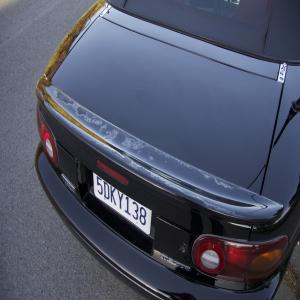Vehicle-registration-plate: (95, 174, 154, 236)
